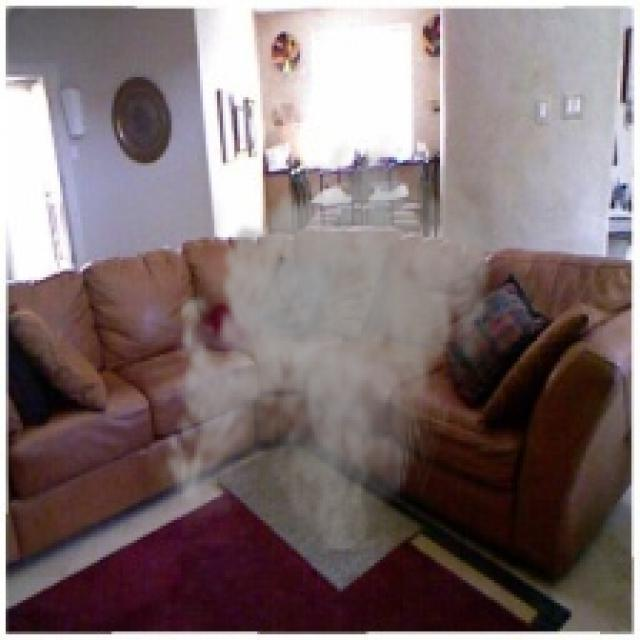Smoke: (155, 135, 500, 554)
